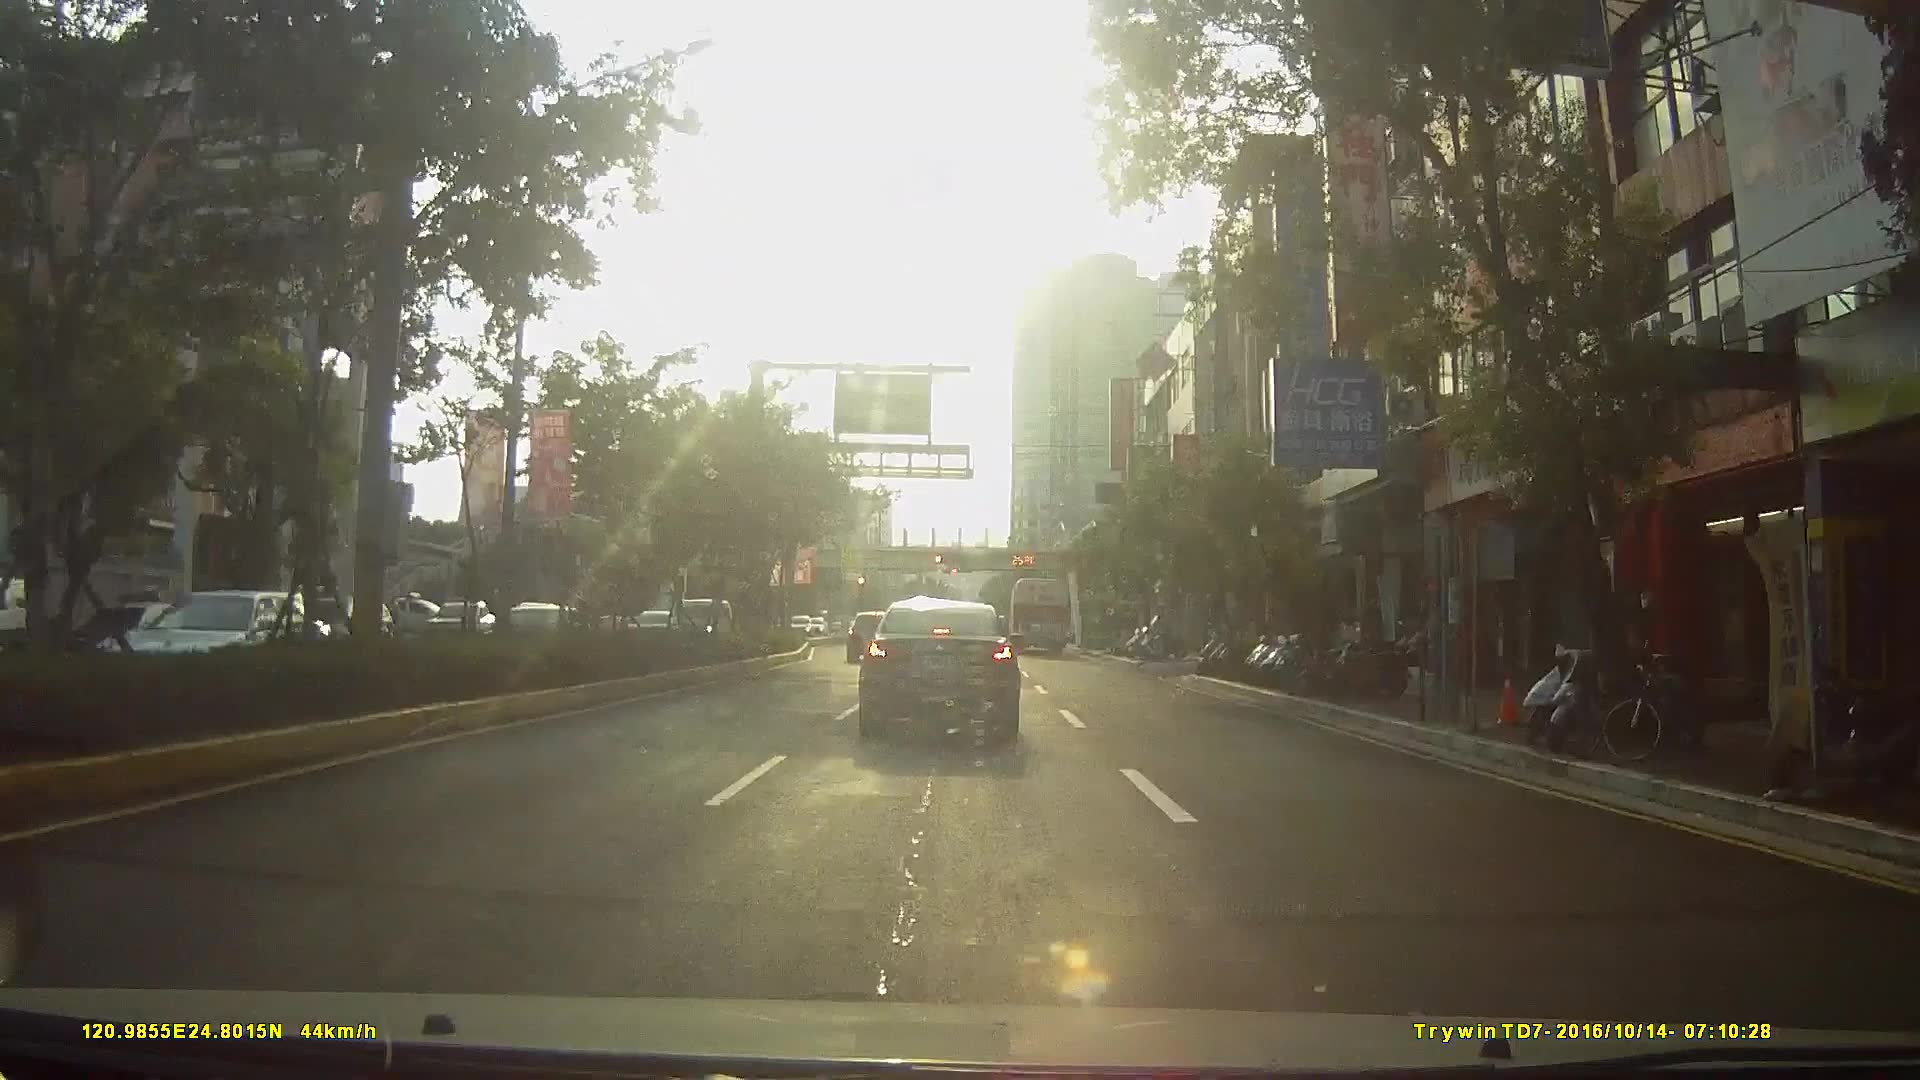vehicle: (857, 601, 1021, 744), (107, 587, 336, 687), (190, 592, 299, 661), (298, 596, 389, 657), (1006, 576, 1073, 655), (418, 599, 491, 640), (845, 611, 895, 663)
